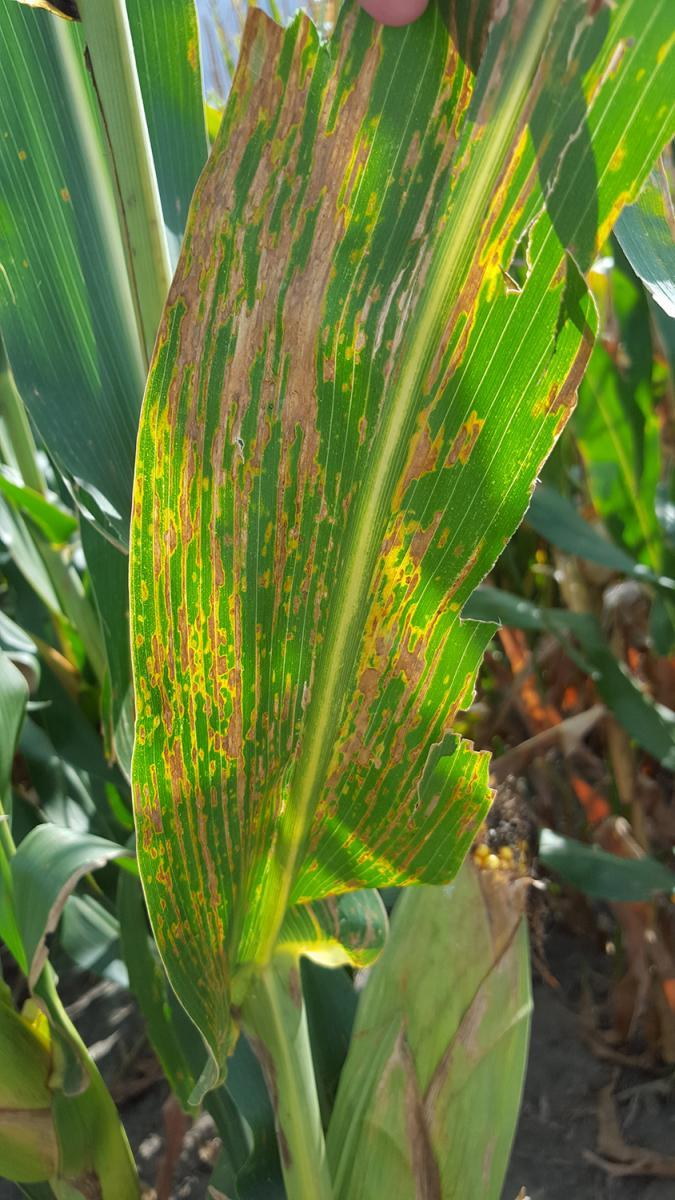Corn leaf blight: (144, 30, 609, 1057)
